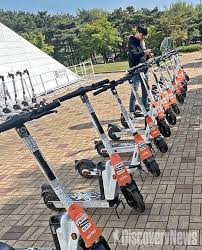kick_handler: (56, 79, 108, 99), (96, 77, 129, 92)
kick_wheel: (120, 184, 144, 212), (41, 184, 62, 210), (73, 159, 93, 178), (143, 158, 160, 177), (106, 125, 121, 141), (159, 123, 170, 137), (157, 140, 168, 152), (166, 112, 176, 125), (175, 92, 183, 103)
